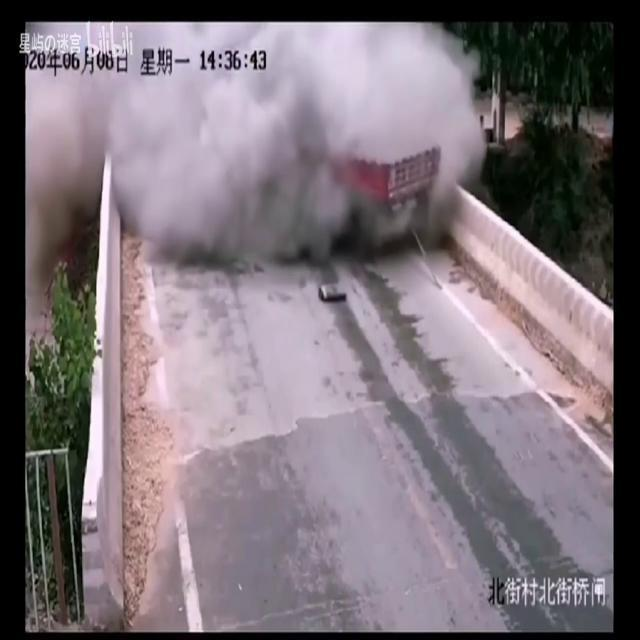accident: (26, 72, 486, 300)
